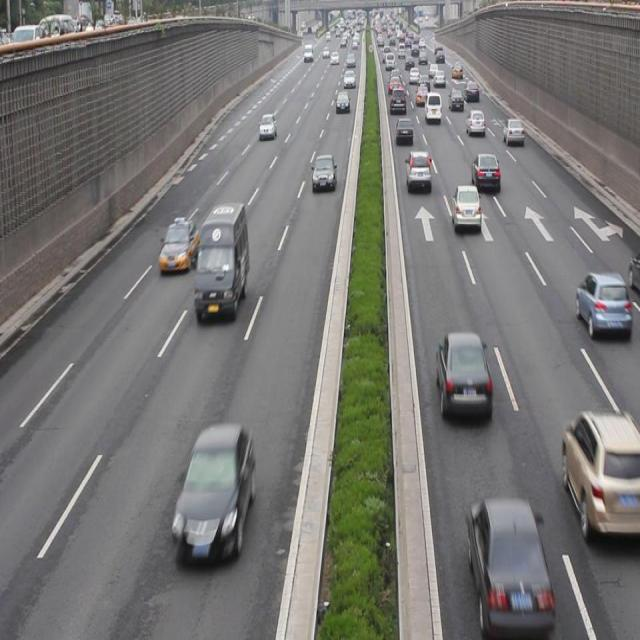car: (173, 426, 256, 560), (560, 409, 640, 543), (465, 498, 552, 621), (434, 333, 492, 420), (574, 271, 629, 338), (160, 218, 199, 275), (450, 183, 479, 234), (470, 152, 498, 192), (405, 151, 430, 193), (311, 156, 335, 194), (464, 110, 484, 138), (502, 118, 522, 145), (396, 117, 412, 145), (258, 112, 275, 138)
truck: (195, 203, 248, 318)
